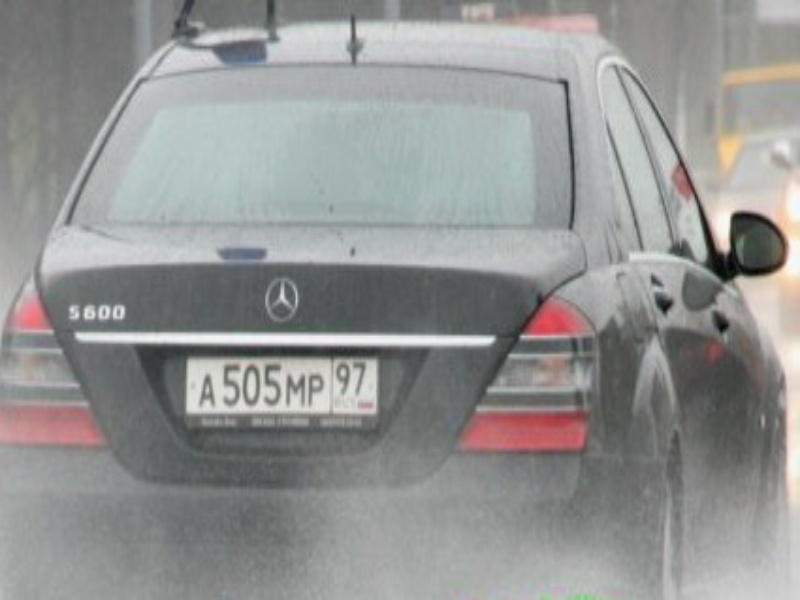car: (1, 20, 790, 600)
plate: (186, 356, 376, 412)
